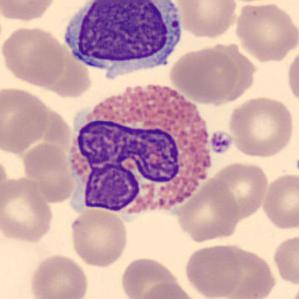Eosinophil: (60, 72, 216, 226)
Lymphocyte: (59, 0, 189, 87)
Platelets: (209, 129, 234, 155)
RBC: (225, 94, 296, 159), (173, 176, 241, 243), (0, 23, 67, 88), (168, 45, 240, 105), (233, 0, 297, 63), (0, 174, 56, 244), (68, 207, 130, 268), (208, 160, 270, 219), (206, 247, 274, 299), (0, 85, 50, 155), (21, 141, 77, 203), (183, 242, 244, 298), (27, 252, 90, 299), (119, 255, 183, 299), (173, 0, 240, 40), (260, 171, 299, 232), (271, 232, 298, 286), (0, 0, 58, 23), (136, 281, 201, 299), (285, 44, 299, 107)
